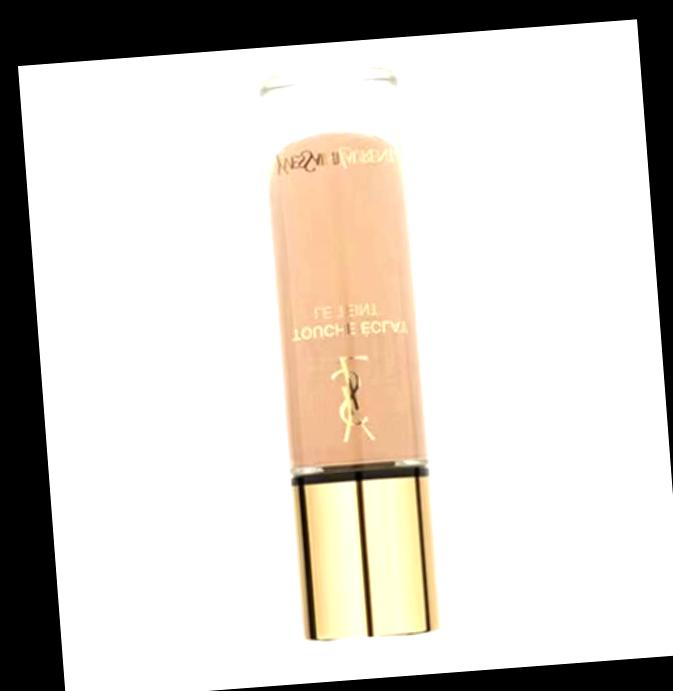cosmetic: (257, 63, 448, 646)
